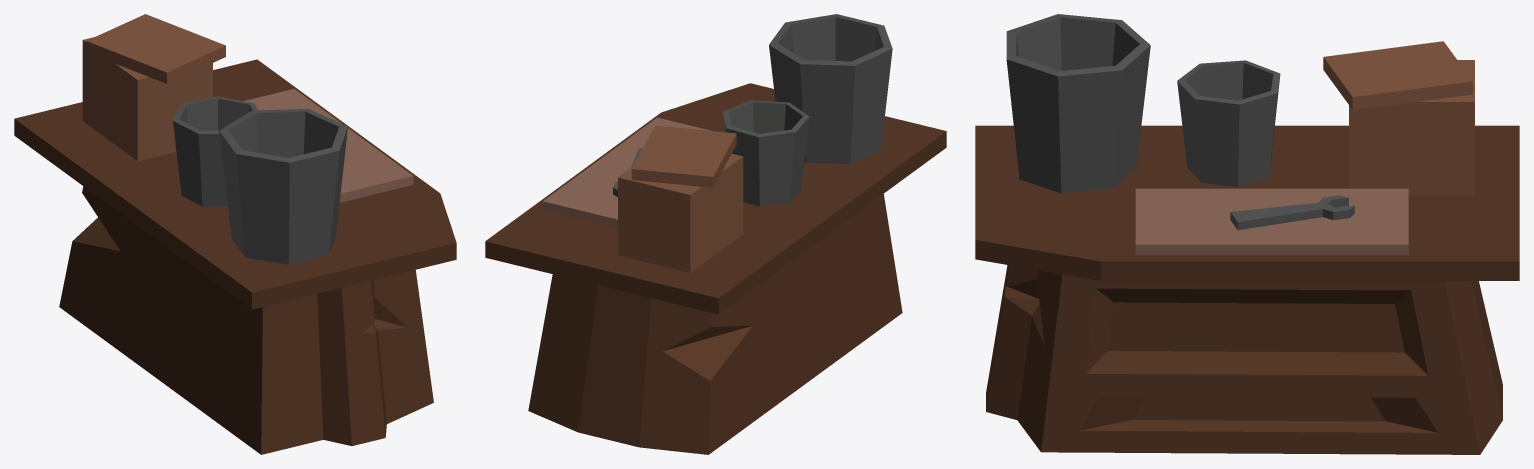
File: LPWarPack_RepairTable.fbx
The picture shows the model from 3 angles, left to right: view 1: azimuth 30°, elevation 25°; view 2: azimuth 150°, elevation 25°; view 3: azimuth 270°, elevation 25°; orthographic projection. The views are drawn at different scales.
Parts seen in each view (by area): view 1: RepairTable; view 2: RepairTable; view 3: RepairTable.
Boxes of the visible parts, x1=… form: RepairTable: x1=14, y1=14, x2=456, y2=454; RepairTable: x1=485, y1=14, x2=946, y2=454; RepairTable: x1=975, y1=14, x2=1519, y2=454.
Size of the model in its own units: 48.92 by 55.95 by 82.91.
